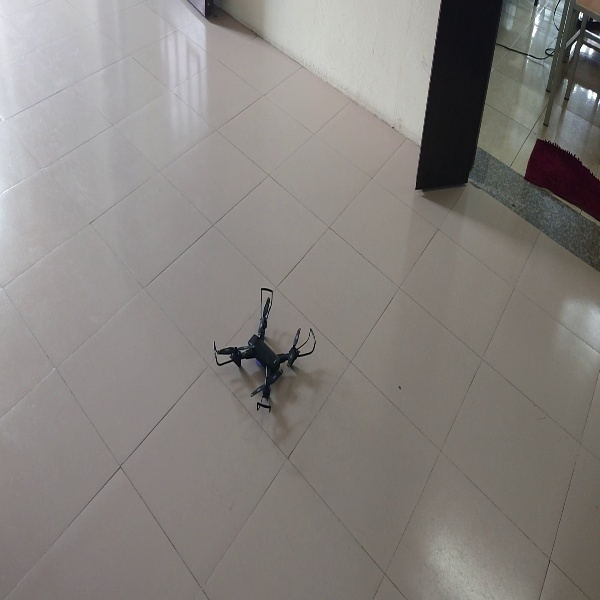drone: (211, 284, 317, 414)
